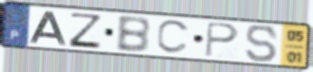A: (28, 10, 69, 47)
B: (115, 15, 153, 55)
C: (155, 19, 193, 56)
P: (204, 21, 241, 59)
S: (244, 24, 279, 64)
Z: (67, 11, 104, 50)
